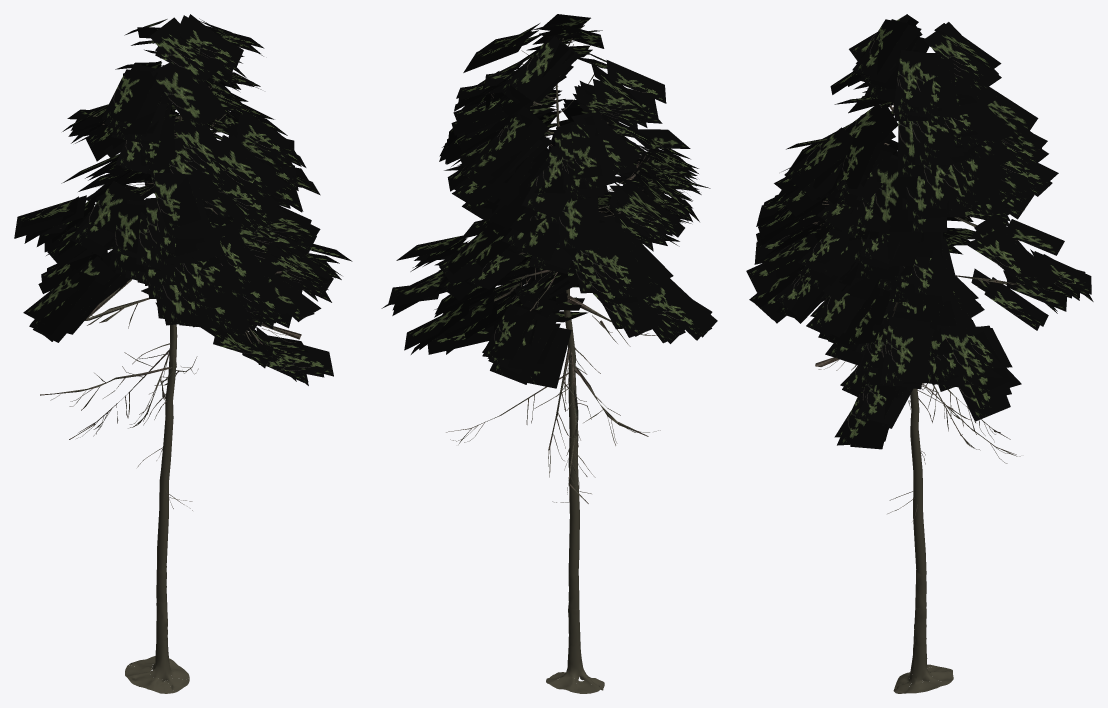
The model's file is fir_2.glb.
The picture shows the model from 3 angles, left to right: view 1: azimuth 30°, elevation 25°; view 2: azimuth 150°, elevation 25°; view 3: azimuth 270°, elevation 25°; orthographic projection.
Parts seen in each view (by area): view 1: fir_2_leaves, fir_tree_01_trunk_c, fir_tree_01_bark; view 2: fir_2_leaves, fir_tree_01_trunk_c, fir_tree_01_bark; view 3: fir_2_leaves, fir_tree_01_trunk_c, fir_tree_01_bark.
Boxes of the visible parts, <box> form: fir_2_leaves: <box>14,14,352,385</box>; fir_tree_01_trunk_c: <box>125,115,189,693</box>; fir_tree_01_bark: <box>40,80,301,439</box>; fir_2_leaves: <box>381,14,717,388</box>; fir_tree_01_trunk_c: <box>546,84,604,693</box>; fir_tree_01_bark: <box>446,38,660,504</box>; fir_2_leaves: <box>746,14,1093,449</box>; fir_tree_01_trunk_c: <box>893,388,953,693</box>; fir_tree_01_bark: <box>803,102,1024,463</box>.
Size of the model in its own units: 7.08 by 14.74 by 6.85.
4 materials, 4 textured.
